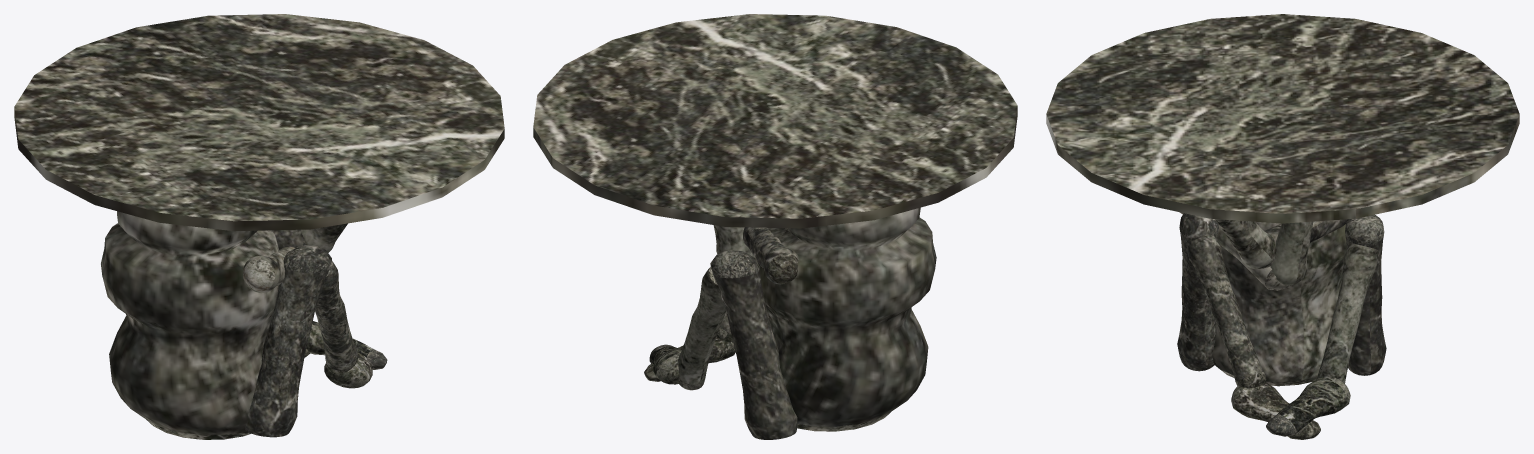
The model's file is smalltable.fbx.
3 views of the same model, side by side, from view 1: azimuth 30°, elevation 25°; view 2: azimuth 150°, elevation 25°; view 3: azimuth 270°, elevation 25° (orthographic). The views are drawn at different scales.
Parts seen in each view (by area): view 1: polySurface4; view 2: polySurface4; view 3: polySurface4.
Part boxes in pixels (x1,y1,x2,y2): polySurface4: [14, 14, 504, 439]; polySurface4: [533, 14, 1017, 439]; polySurface4: [1046, 14, 1519, 439].
Size of the model in its own units: 11.09 by 7.08 by 11.09.
